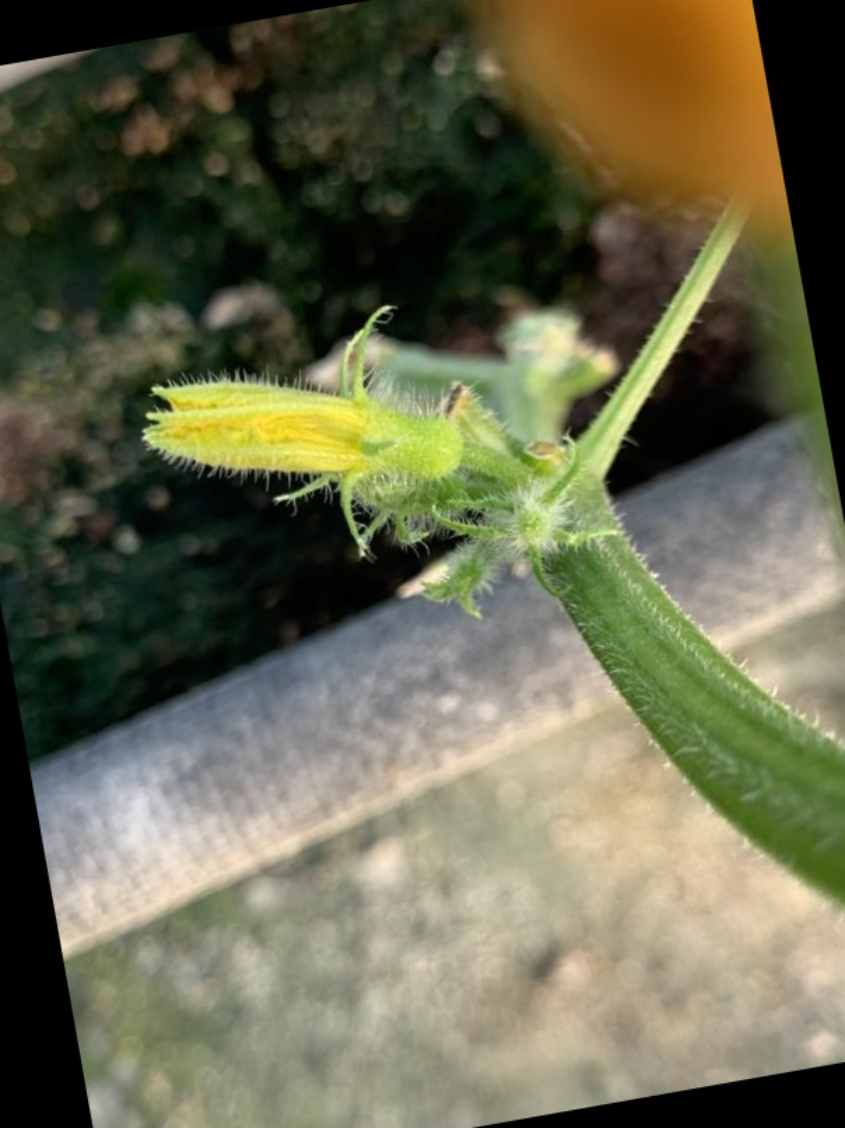bud: (141, 322, 484, 532)
